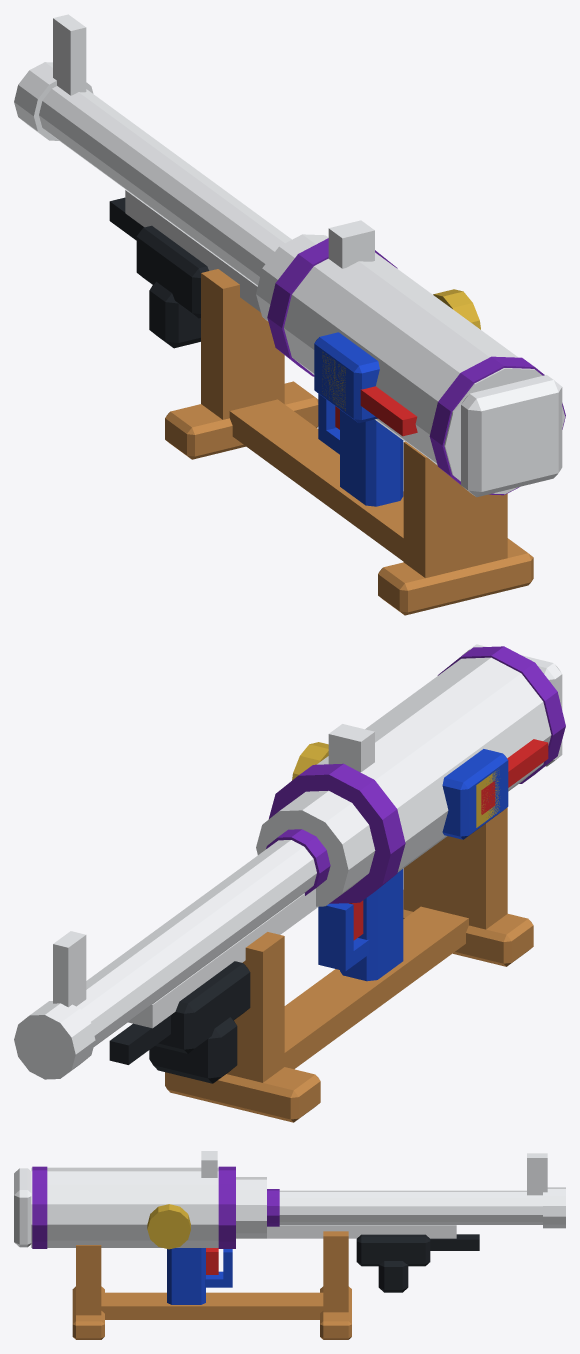
File: launcher_potato_cannon.glb
The picture shows the model from 3 angles, top to bottom: view 1: azimuth 30°, elevation 25°; view 2: azimuth 150°, elevation 25°; view 3: azimuth 270°, elevation 25°; orthographic projection. The views are drawn at different scales.
Parts seen in each view (by area): view 1: body, cradle_rear, piezo_grip, pump_slide, primer_rear, piezo_trigger, left_clamp; view 2: body, cradle_rear, piezo_grip, primer_rear, pump_slide, piezo_trigger, left_clamp; view 3: body, cradle_rear, pump_slide, primer_rear, piezo_grip, left_clamp, piezo_trigger.
Part boxes in pixels (left/top/right/bottom): body: left=14, top=14, right=565, bottom=497; cradle_rear: left=165, top=269, right=533, bottom=615; piezo_grip: left=314, top=332, right=403, bottom=506; pump_slide: left=109, top=197, right=208, bottom=348; primer_rear: left=267, top=238, right=565, bottom=495; piezo_trigger: left=335, top=386, right=417, bottom=436; left_clamp: left=322, top=289, right=480, bottom=410; body: left=14, top=644, right=562, bottom=1079; cradle_rear: left=165, top=807, right=533, bottom=1122; piezo_grip: left=318, top=749, right=508, bottom=981; primer_rear: left=266, top=646, right=565, bottom=903; pump_slide: left=109, top=961, right=250, bottom=1083; piezo_trigger: left=348, top=739, right=548, bottom=940; left_clamp: left=292, top=742, right=499, bottom=827; body: left=14, top=1151, right=565, bottom=1247; cradle_rear: left=72, top=1231, right=351, bottom=1339; pump_slide: left=356, top=1234, right=479, bottom=1292; primer_rear: left=32, top=1166, right=279, bottom=1248; piezo_grip: left=167, top=1248, right=232, bottom=1304; left_clamp: left=147, top=1204, right=190, bottom=1249; piezo_trigger: left=206, top=1248, right=218, bottom=1274.
Bounding box in the file's own units: 0.18 × 0.32 × 0.96.
